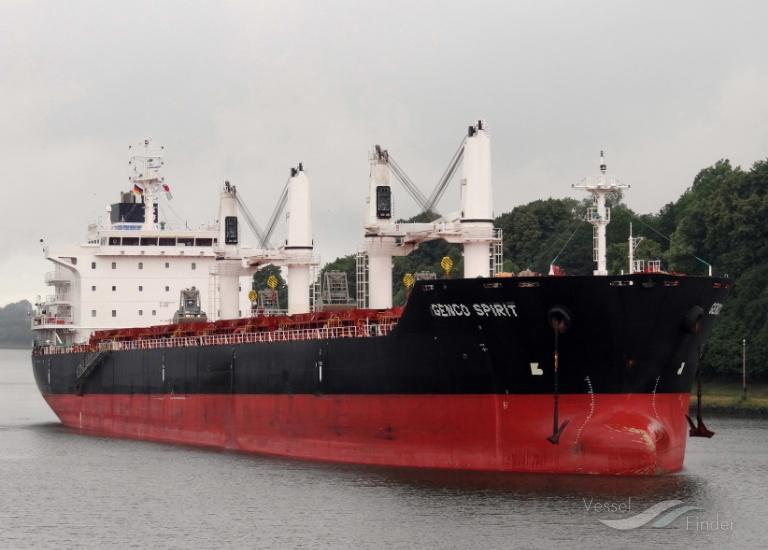OCR: (427, 298, 518, 322)
